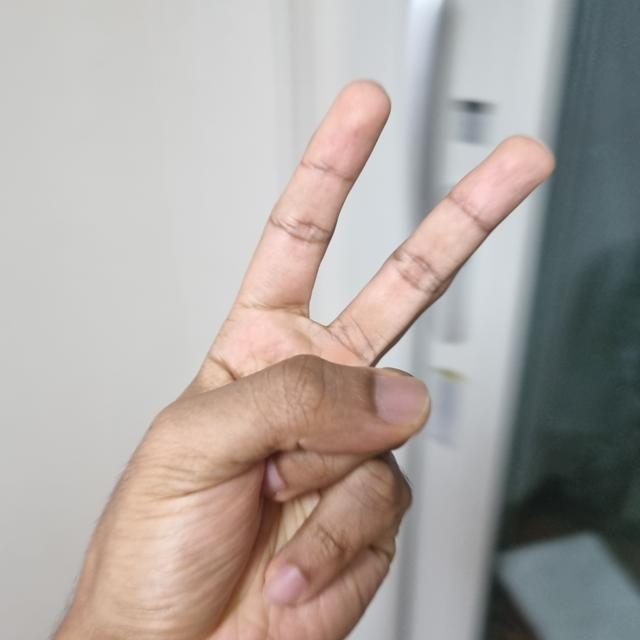Scissors: (30, 80, 557, 640)
